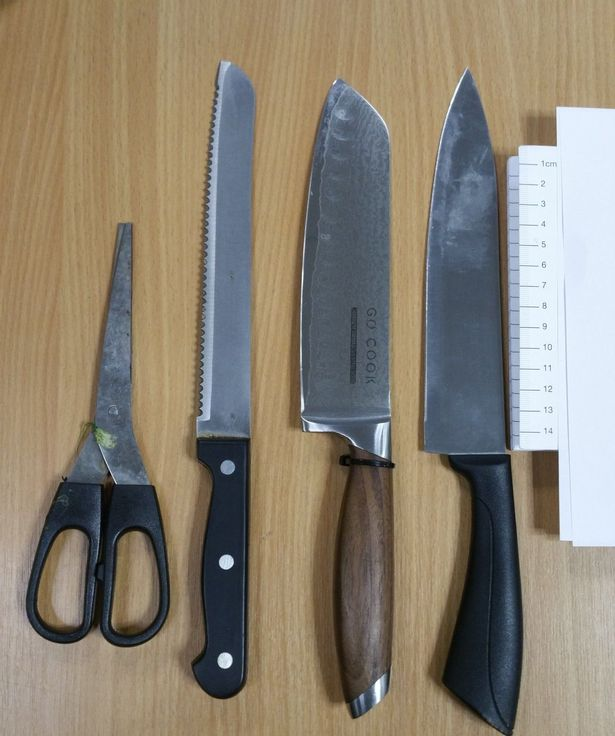knife: (424, 60, 520, 736), (293, 67, 389, 726), (196, 54, 258, 698)
